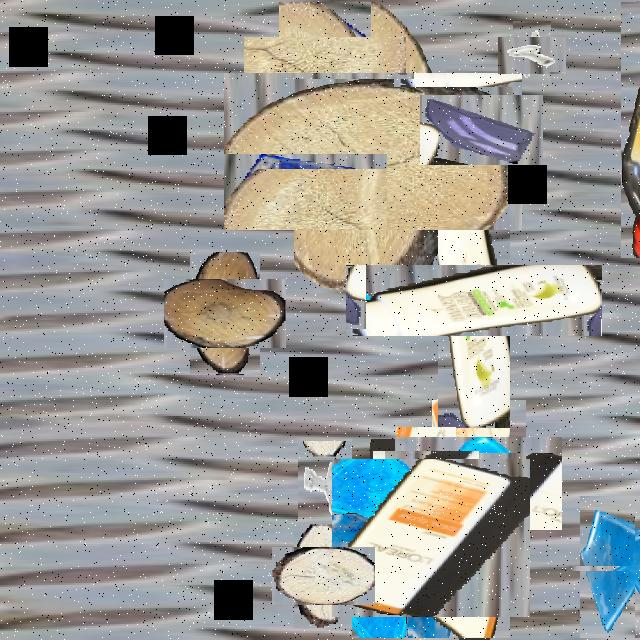glass: (414, 418, 544, 549), (261, 20, 389, 147), (432, 81, 530, 179), (580, 496, 640, 638), (384, 438, 468, 522), (601, 533, 640, 604)
metal: (351, 166, 409, 268), (298, 441, 354, 540), (506, 29, 558, 81)
plastic: (342, 449, 520, 628), (392, 218, 556, 382), (621, 2, 640, 258)
wood: (259, 37, 487, 265), (177, 265, 273, 361), (282, 536, 363, 616)
